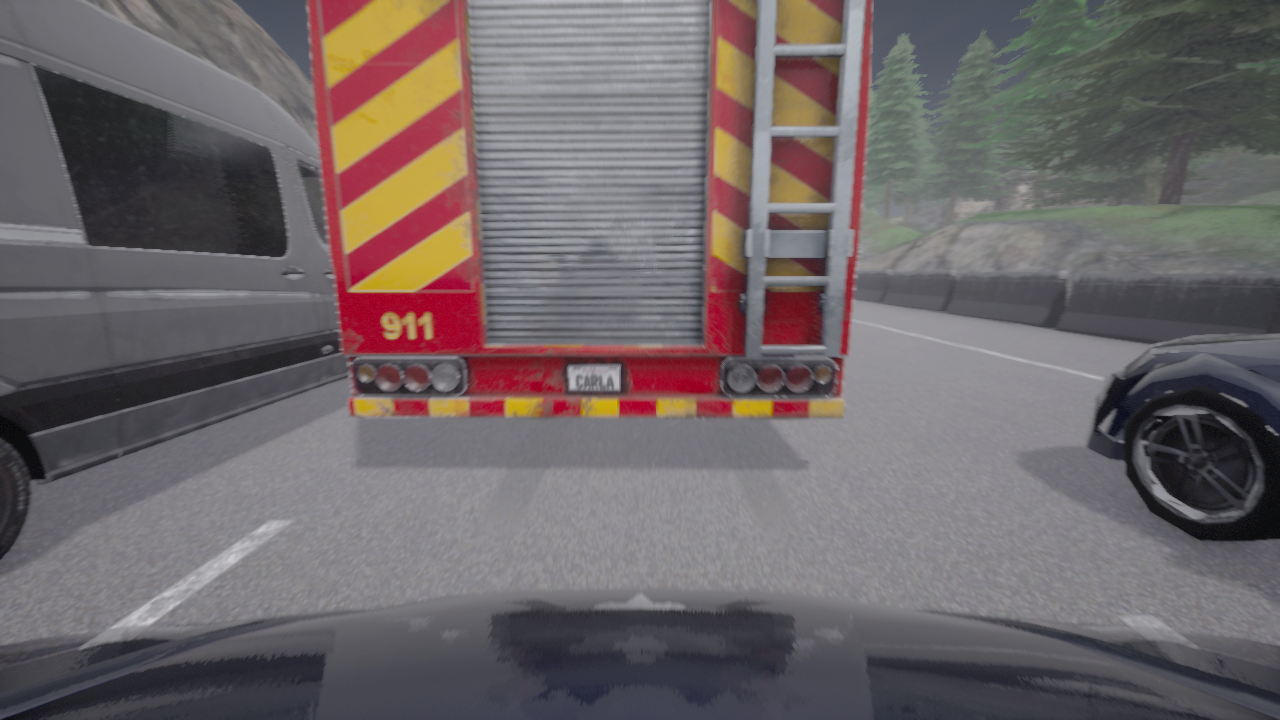cyclist: (307, 0, 872, 418), (0, 588, 1279, 719), (1085, 333, 1279, 542)
